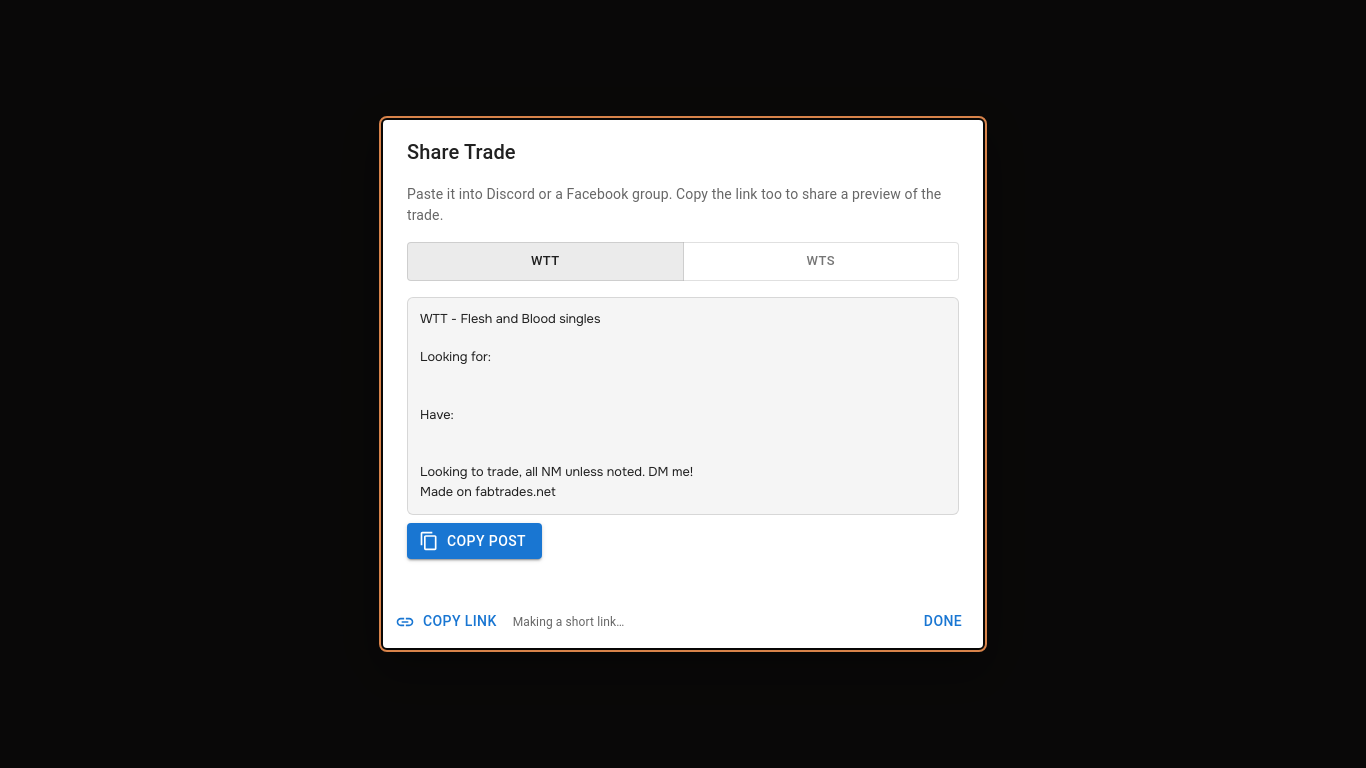
Test: ShareTradeDialog › copies the short link even when clicked before it is ready
Check: the text with test id "share-trade-link" reads "Making a short link…", box [513,615,624,629]
Step 1. Click the button with test id "share-trade-copy-link" → (448, 622), box [391,603,505,640]
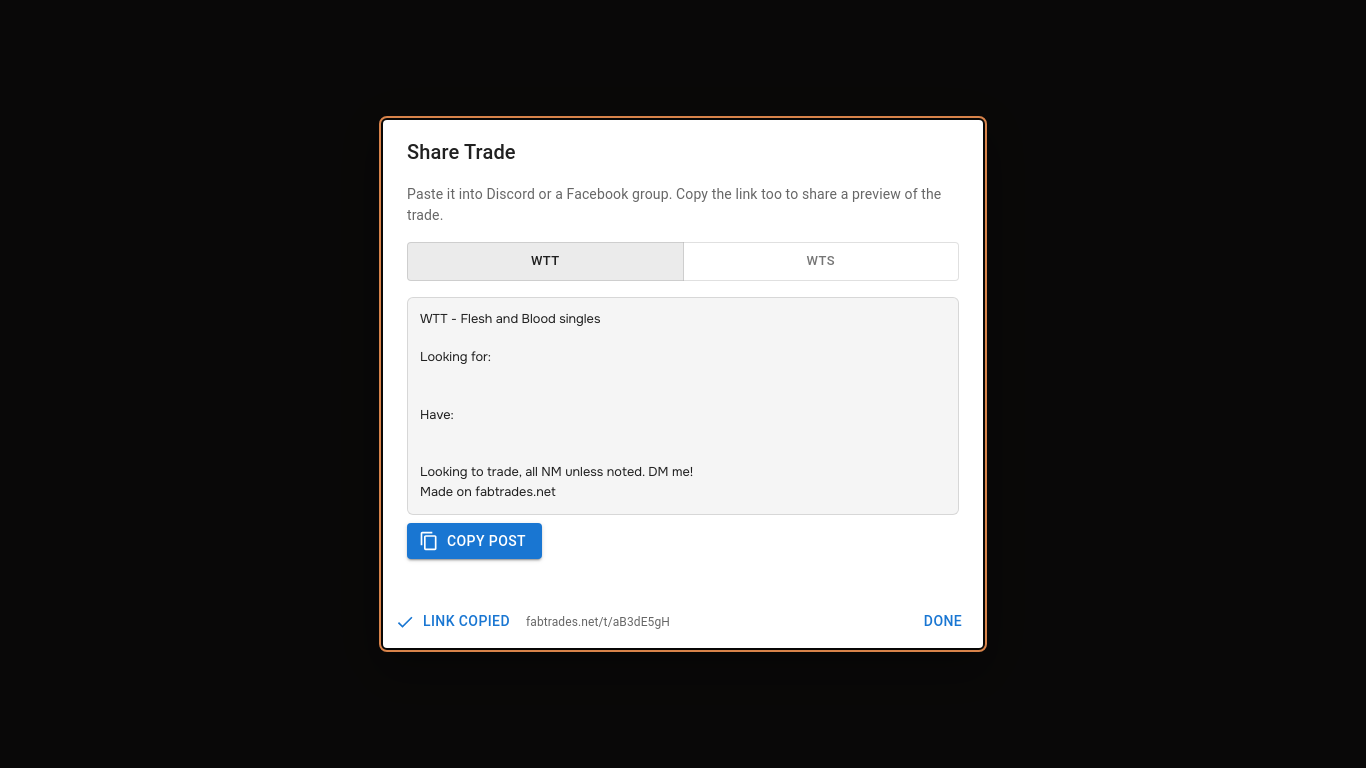
Check: the button "Link copied" is shown, box [391,603,518,640]
Check: the text with test id "share-trade-link" reads "fabtrades.net/t/aB3dE5gH", box [526,615,670,629]
